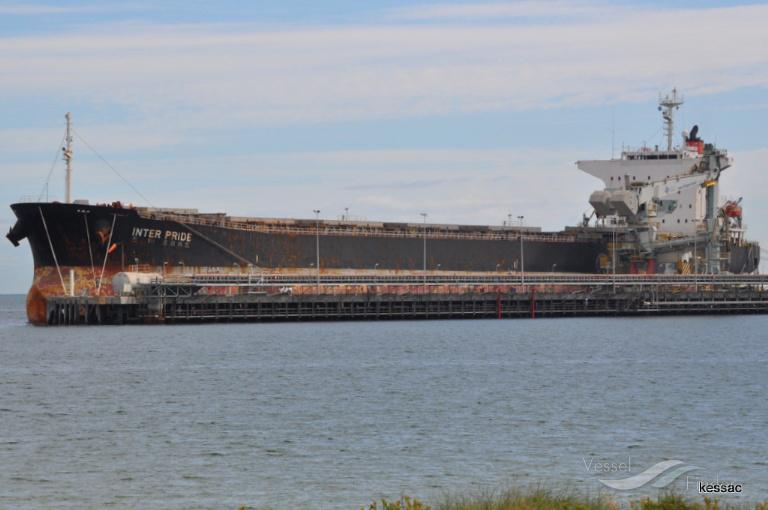OCR: (124, 222, 201, 247)
